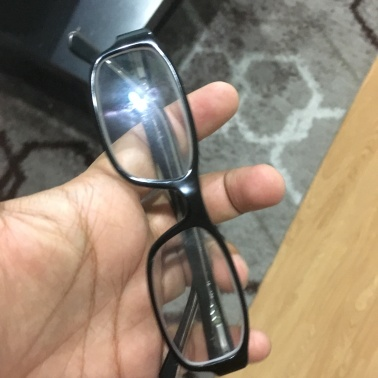glasses: (64, 29, 263, 369)
